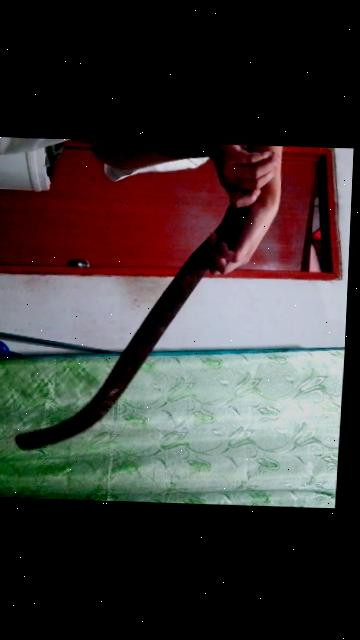long knife: (10, 167, 255, 461)
